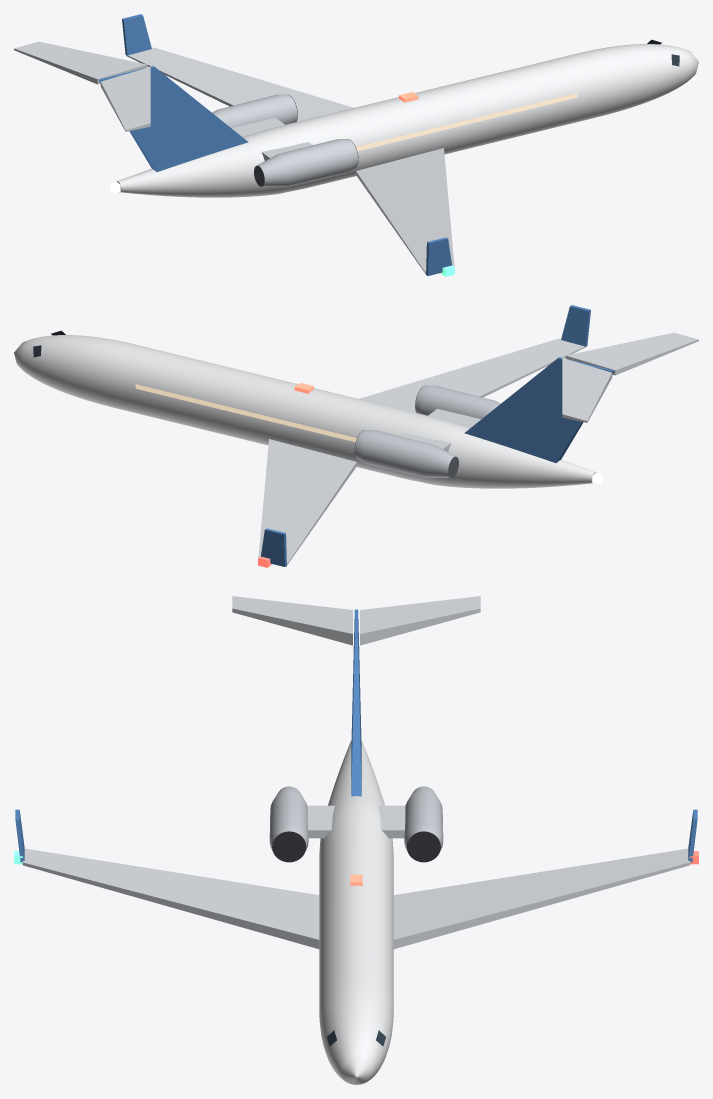
File: bizjet.glb
3 views of the same model, one above another, from view 1: azimuth 30°, elevation 25°; view 2: azimuth 150°, elevation 25°; view 3: azimuth 270°, elevation 25° (orthographic). The views are drawn at different scales.
Parts seen in each view (by area): view 1: main; view 2: main; view 3: main.
Part boxes in pixels (<box>): main: <box>14,14,698,276</box>; main: <box>14,305,698,567</box>; main: <box>14,596,698,1084</box>.
Size of the model in its own units: 22.76 by 5.43 by 19.33.
